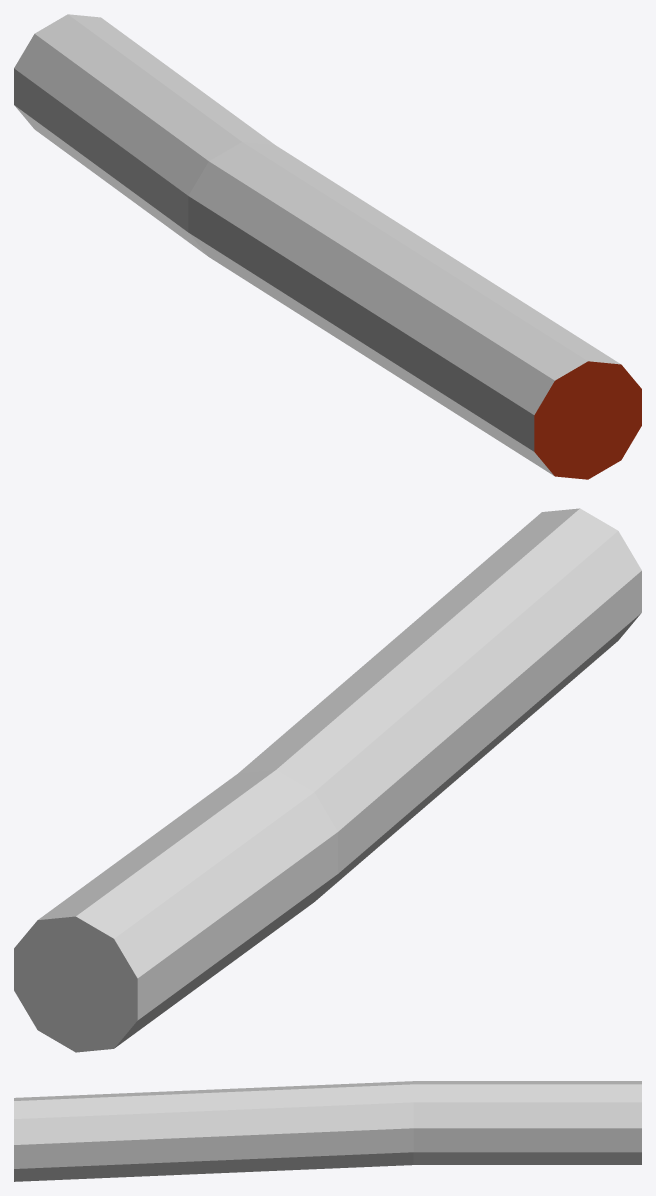
The model's file is cig.glb.
3 renders of one model, top to bottom at view 1: azimuth 30°, elevation 25°; view 2: azimuth 150°, elevation 25°; view 3: azimuth 270°, elevation 25°, orthographic. The views are drawn at different scales.
Parts seen in each view (by area): view 1: Cylinder; view 2: Cylinder; view 3: Cylinder.
Part boxes in pixels (x1,y1,x2,y2): Cylinder: [14, 14, 641, 479]; Cylinder: [14, 508, 641, 1052]; Cylinder: [14, 1081, 641, 1181].
Bounding box in the file's own units: 0.2621 × 0.2098 × 1.47.
